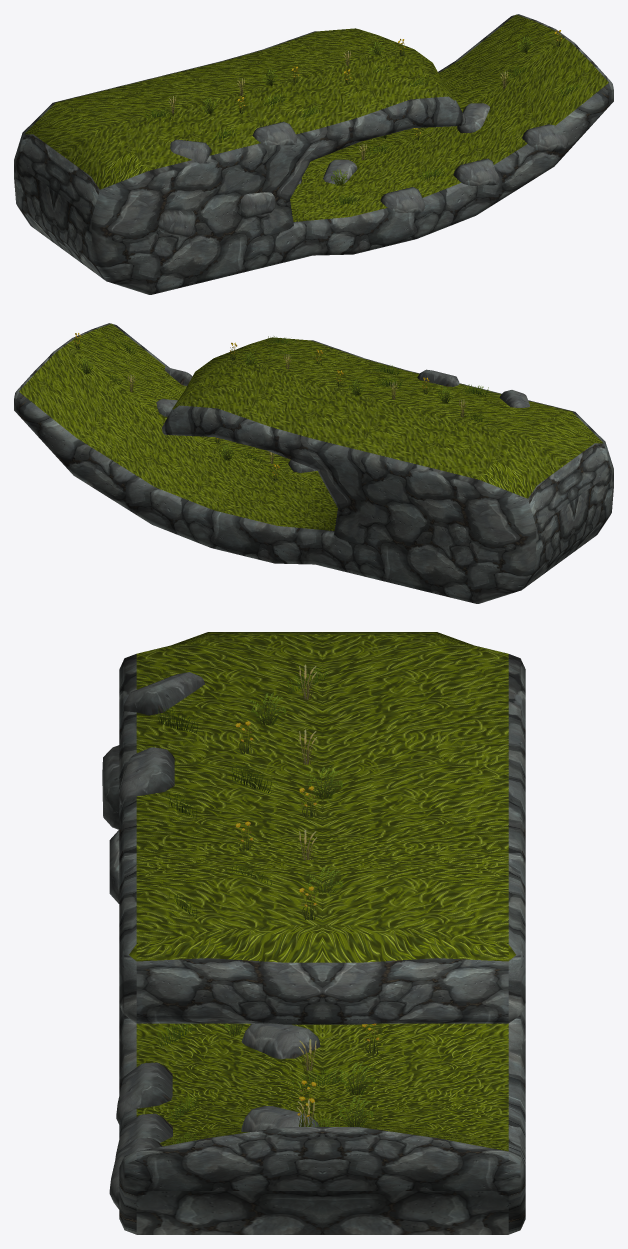
The model's file is platform2_floating_cave.fbx.
The picture shows the model from 3 angles, top to bottom: view 1: azimuth 30°, elevation 25°; view 2: azimuth 150°, elevation 25°; view 3: azimuth 270°, elevation 25°; orthographic projection. The views are drawn at different scales.
Visible parts, largest first — view 1: platform2_floating_cave_Layer1, grass; view 2: platform2_floating_cave_Layer1, grass; view 3: platform2_floating_cave_Layer1, grass.
Boxes of the visible parts, x1=… form: platform2_floating_cave_Layer1: x1=14, y1=14, x2=613, y2=294; grass: x1=145, y1=30, x2=581, y2=205; platform2_floating_cave_Layer1: x1=14, y1=323, x2=613, y2=603; grass: x1=74, y1=333, x2=488, y2=481; platform2_floating_cave_Layer1: x1=102, y1=632, x2=525, y2=1234; grass: x1=157, y1=664, x2=379, y2=1144.
Bounding box in the file's own units: 24.2 × 7.38 × 8.65.
